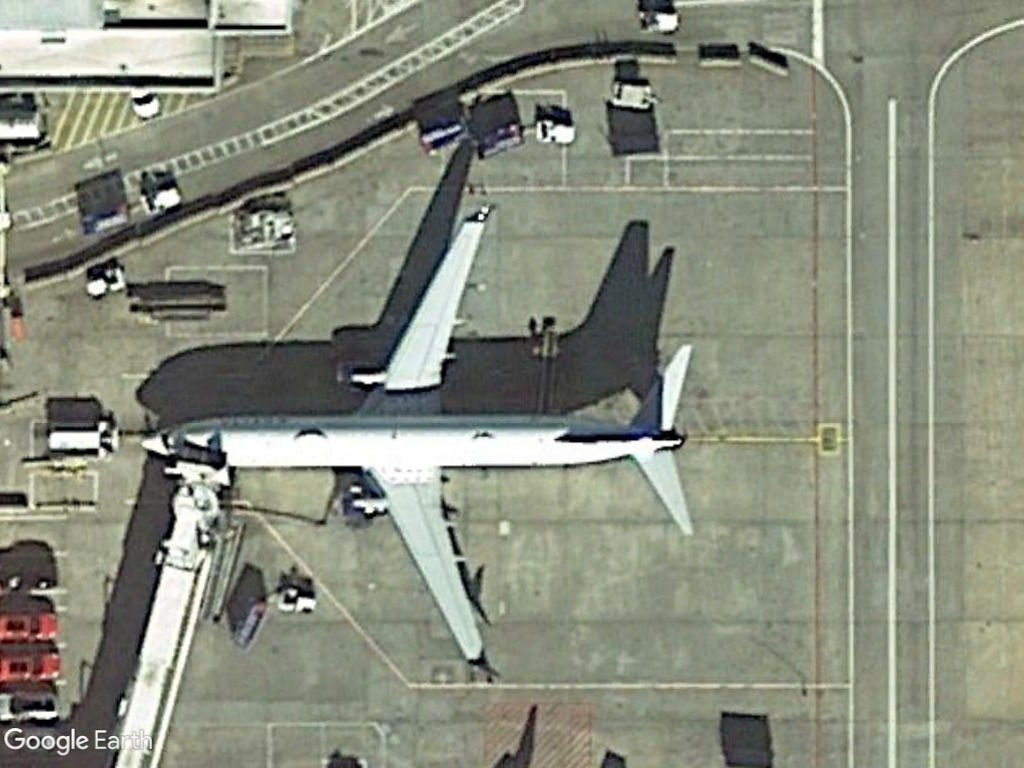airliner: (138, 193, 707, 687)
